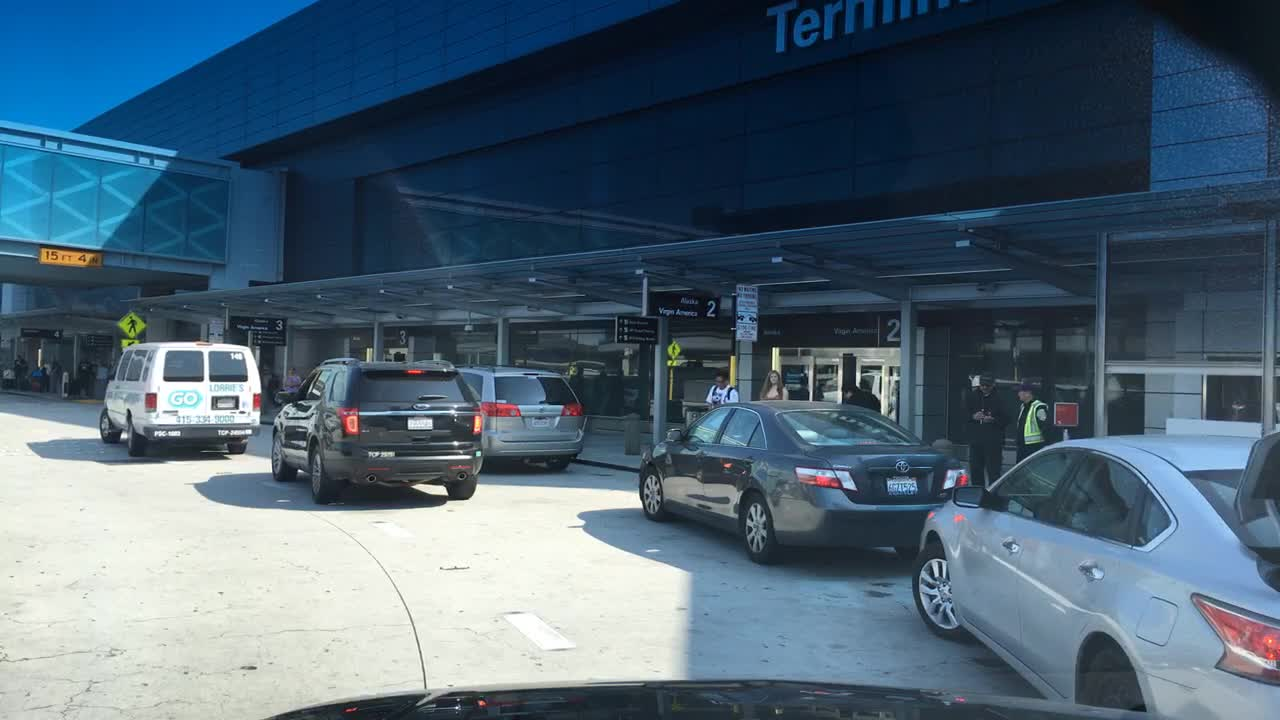car: (909, 432, 1279, 717), (637, 397, 967, 564), (270, 355, 489, 504), (97, 339, 261, 456), (452, 362, 588, 470)
person: (966, 370, 1006, 487), (1012, 379, 1054, 457), (704, 371, 738, 414), (755, 366, 788, 399), (851, 377, 882, 409), (259, 361, 272, 414), (282, 366, 300, 404), (13, 354, 28, 391), (77, 356, 89, 397), (793, 375, 811, 399), (37, 356, 48, 394), (48, 358, 62, 377)
traffic sign: (650, 289, 722, 321), (613, 312, 661, 344), (224, 313, 287, 336), (734, 283, 758, 341), (39, 245, 101, 266), (117, 310, 146, 337), (667, 338, 680, 357), (119, 338, 139, 349), (667, 358, 681, 367)
